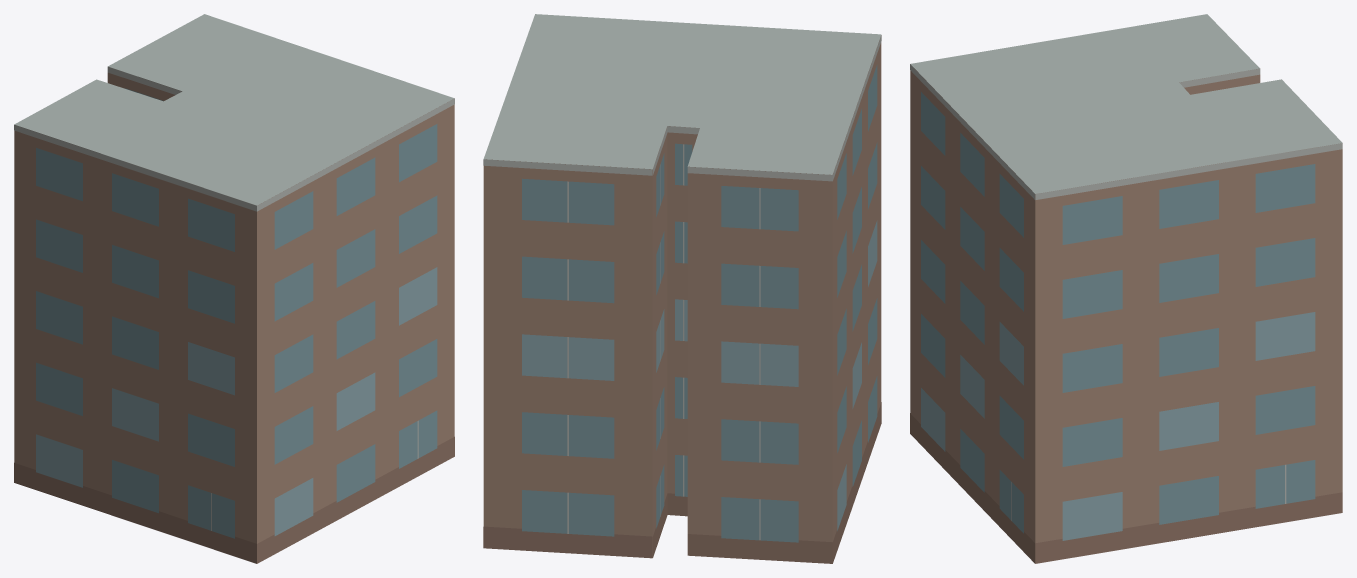
Rendered from survey-upis-32758790.glb.
3 views of the same model, side by side, from view 1: azimuth 30°, elevation 25°; view 2: azimuth 150°, elevation 25°; view 3: azimuth 270°, elevation 25° (orthographic). The views are drawn at different scales.
Visible parts, largest first — view 1: survey-upis-32758790.tmp; view 2: survey-upis-32758790.tmp; view 3: survey-upis-32758790.tmp.
Part boxes in pixels (bbox=[...]): survey-upis-32758790.tmp: bbox=[14, 14, 454, 563]; survey-upis-32758790.tmp: bbox=[483, 14, 881, 563]; survey-upis-32758790.tmp: bbox=[910, 14, 1342, 563].
Bounding box in the file's own units: 15.25 × 14.6 × 15.49.
